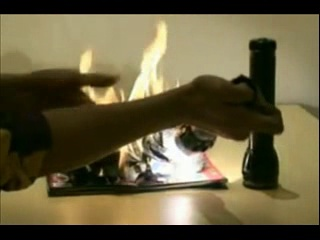fire: (125, 19, 169, 100), (78, 44, 120, 104), (118, 138, 143, 167)
